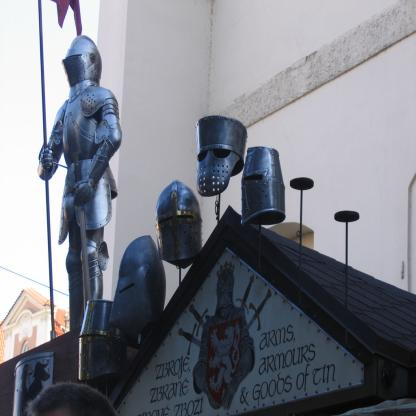Helmet: (114, 236, 166, 336), (147, 186, 206, 272), (195, 111, 248, 199), (76, 298, 126, 388), (238, 141, 286, 228), (61, 34, 104, 85)
